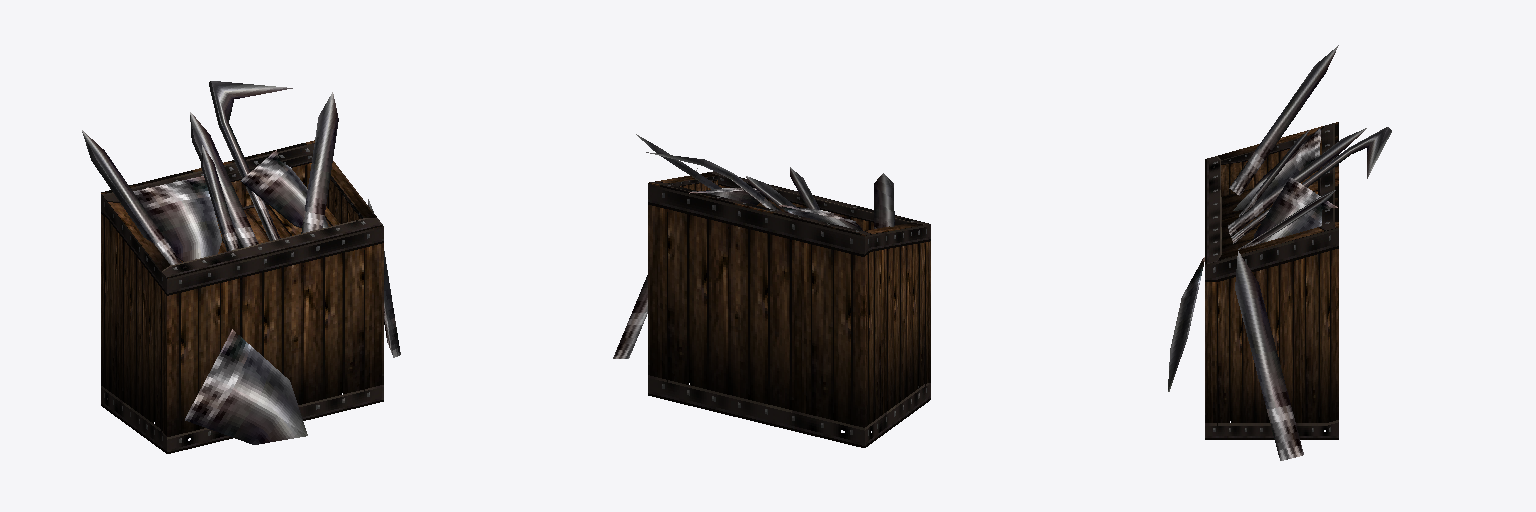
3 renders of one model, left to right at view 1: azimuth 30°, elevation 25°; view 2: azimuth 150°, elevation 25°; view 3: azimuth 270°, elevation 25°, orthographic.
Parts seen in each view (by area): view 1: Mesh_0, Mesh_1; view 2: Mesh_0, Mesh_1; view 3: Mesh_0, Mesh_1.
Boxes of the visible parts, <box> form: Mesh_0: <box>101,140,383,453</box>; Mesh_1: <box>82,81,400,444</box>; Mesh_0: <box>648,171,930,447</box>; Mesh_1: <box>613,134,894,358</box>; Mesh_0: <box>1205,122,1338,439</box>; Mesh_1: <box>1168,45,1391,460</box>.
Bounding box in the file's own units: 2.04 × 1.89 × 1.37.
2 materials, 2 textured.